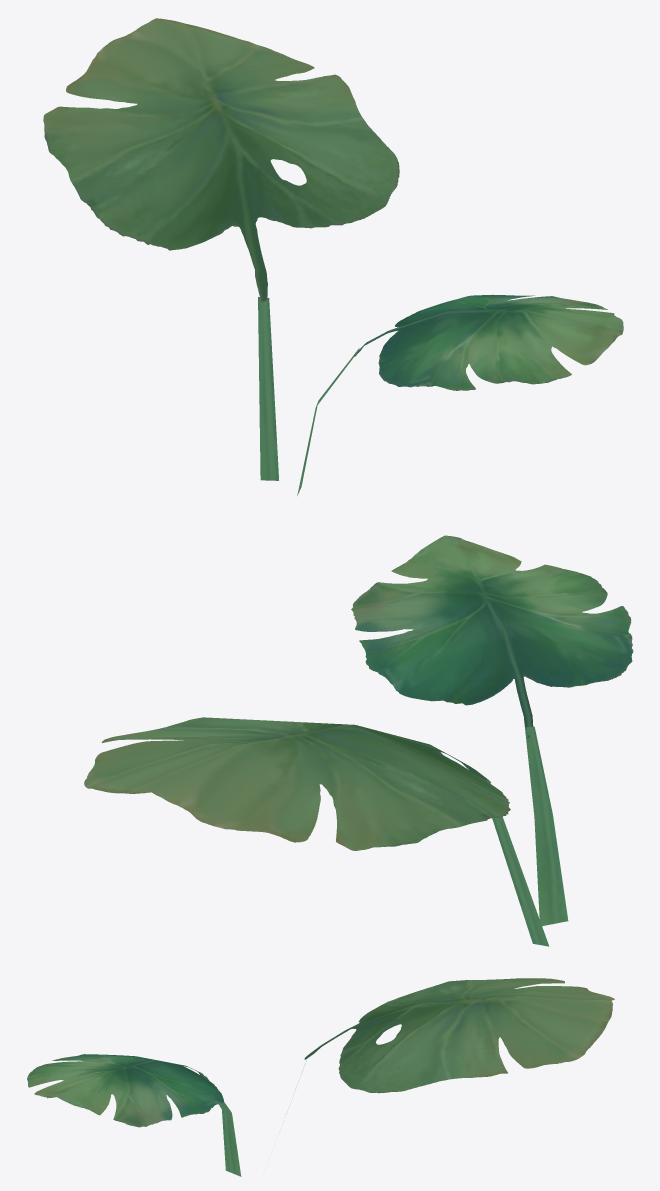
The model's file is SM_Ground_Taro_B.fbx.
3 renders of one model, top to bottom at view 1: azimuth 30°, elevation 25°; view 2: azimuth 150°, elevation 25°; view 3: azimuth 270°, elevation 25°, orthographic. The views are drawn at different scales.
Visible parts, largest first — view 1: SM_Ground_Taro_B_LOD0; view 2: SM_Ground_Taro_B_LOD0; view 3: SM_Ground_Taro_B_LOD0.
Boxes of the visible parts, <box> form: SM_Ground_Taro_B_LOD0: <box>43,18,623,495</box>; SM_Ground_Taro_B_LOD0: <box>84,535,633,946</box>; SM_Ground_Taro_B_LOD0: <box>27,978,614,1176</box>.
Bounding box in the file's own units: 23.86 × 46.97 × 17.28.
Materials: 1 (1 with a texture image).
